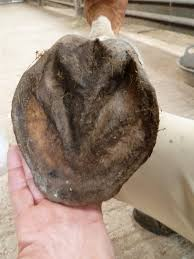horsesole: (11, 49, 159, 205)
